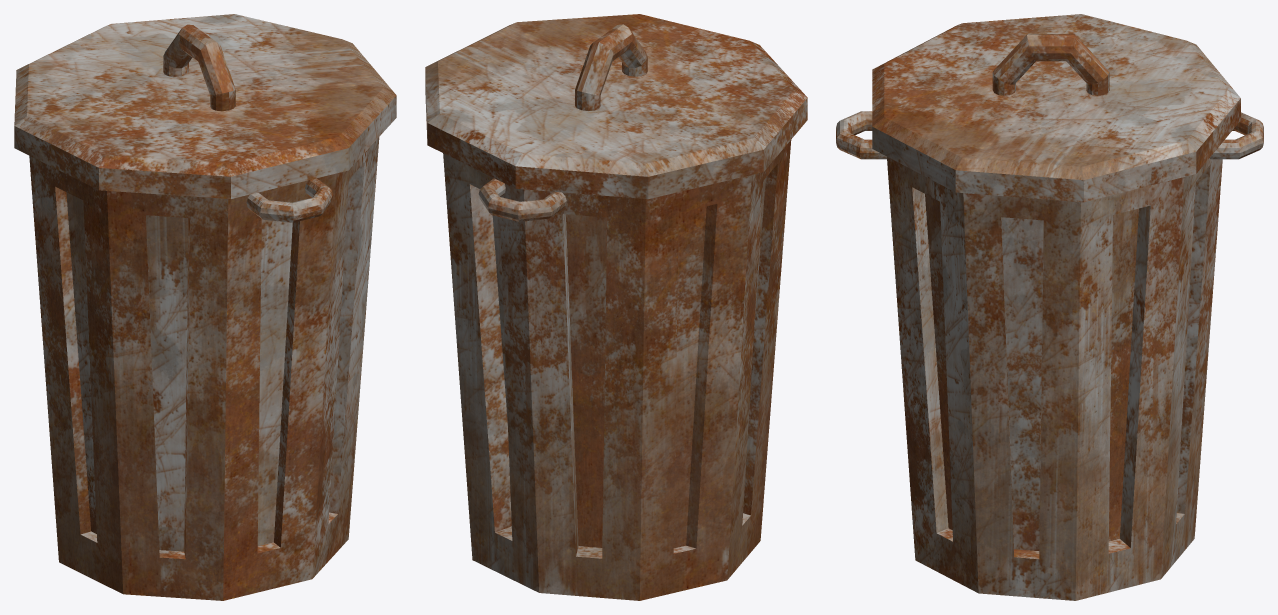
The model's file is Basurero.fbx.
3 renders of one model, left to right at view 1: azimuth 30°, elevation 25°; view 2: azimuth 150°, elevation 25°; view 3: azimuth 270°, elevation 25°, orthographic.
Visible parts, largest first — view 1: Cylinder.001; view 2: Cylinder.001; view 3: Cylinder.001.
Part boxes in pixels (left/top/right/bottom): Cylinder.001: left=14, top=14, right=396, bottom=600; Cylinder.001: left=425, top=14, right=807, bottom=600; Cylinder.001: left=836, top=14, right=1263, bottom=600.
Bounding box in the file's own units: 186 × 267 × 205.
